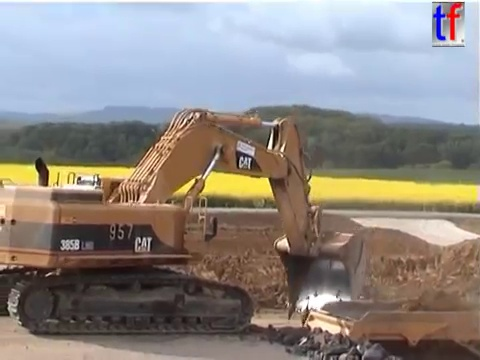truck: (298, 294, 480, 360)
worker: (1, 103, 371, 339)
